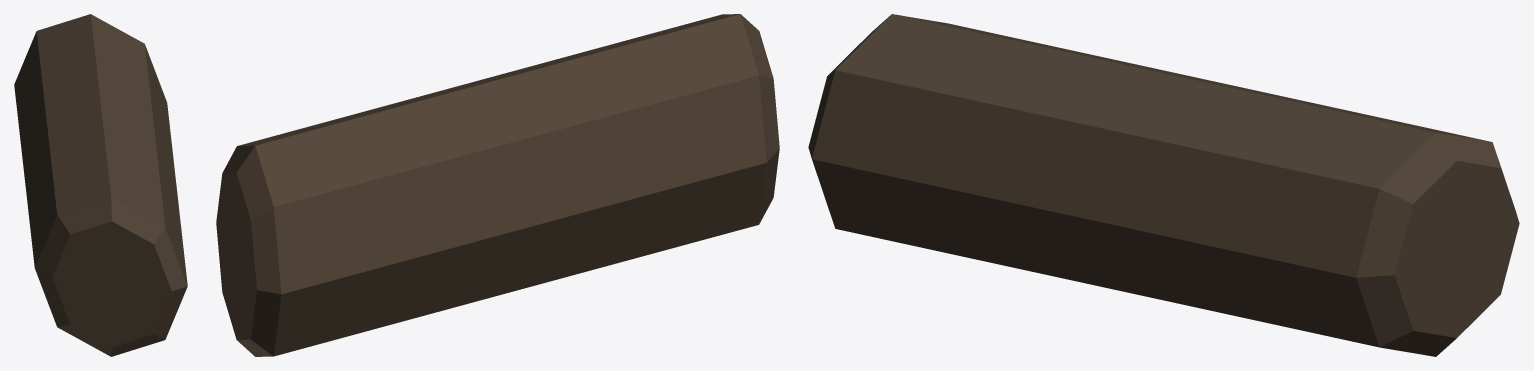
The model's file is Fireplace_Rustic_Log1.FBX.
3 renders of one model, left to right at view 1: azimuth 30°, elevation 25°; view 2: azimuth 150°, elevation 25°; view 3: azimuth 270°, elevation 25°, orthographic. The views are drawn at different scales.
Visible parts, largest first — view 1: Fireplace_Rustic_Log1; view 2: Fireplace_Rustic_Log1; view 3: Fireplace_Rustic_Log1.
Boxes of the visible parts, x1,y1,x2,y2 form: Fireplace_Rustic_Log1: [14, 14, 187, 356]; Fireplace_Rustic_Log1: [216, 14, 779, 356]; Fireplace_Rustic_Log1: [808, 14, 1519, 356].
Bounding box in the file's own units: 17.27 × 9.78 × 28.1.
Materials: 1 (1 with a texture image).
